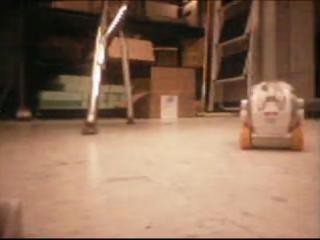cozmo: (238, 79, 305, 151)
